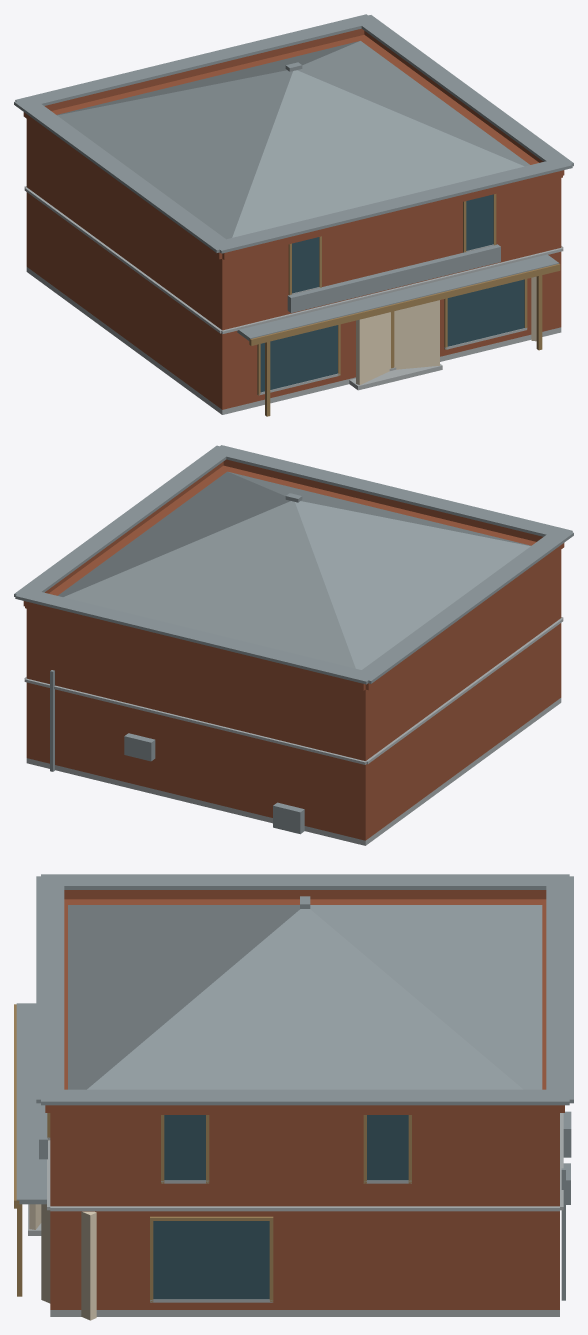
The model's file is shop-corner.glb.
3 views of the same model, one above another, from view 1: azimuth 30°, elevation 25°; view 2: azimuth 150°, elevation 25°; view 3: azimuth 270°, elevation 25° (orthographic). The views are drawn at different scales.
Visible parts, largest first — view 1: wall-envelope, roof-concealed-hip, shop-corner-coping-front, shop-corner-coping-rear, shop-corner-coping-east, shop-corner-coping-west, shop-sign-lit-box, awning-structure, opening-front-shop-right, opening-front-shop-left, splayed-entry-right-return, front-parapet (+12 smaller); view 2: wall-envelope, roof-concealed-hip, shop-corner-coping-rear, shop-corner-coping-front, shop-corner-coping-east, shop-corner-coping-west, ground-contact-plinth, rear-parapet, front-parapet, storey-line-01-rear, storey-line-01-west, west-parapet (+4 smaller); view 3: roof-concealed-hip, wall-envelope, opening-east-shop, shop-corner-coping-east, shop-corner-coping-west, shop-corner-coping-front, shop-corner-coping-rear, east-parapet, awning-structure, west-parapet, ground-contact-plinth, storey-line-01-east (+6 smaller).
Part boxes in pixels (box(x1,y1,x2,y2)): wall-envelope: box(26, 34, 561, 409); roof-concealed-hip: box(57, 41, 529, 239); shop-corner-coping-front: box(212, 159, 572, 253); shop-corner-coping-rear: box(15, 14, 376, 107); shop-corner-coping-east: box(353, 15, 573, 166); shop-corner-coping-west: box(14, 99, 234, 252); shop-sign-lit-box: box(287, 244, 500, 312); awning-structure: box(237, 254, 559, 341); opening-front-shop-right: box(447, 279, 524, 346); opening-front-shop-left: box(260, 325, 337, 392); splayed-entry-right-return: box(394, 300, 439, 369); front-parapet: box(222, 170, 562, 259); wall-envelope: box(26, 465, 561, 840); roof-concealed-hip: box(58, 471, 530, 669); shop-corner-coping-rear: box(15, 589, 376, 684); shop-corner-coping-front: box(211, 445, 572, 538); shop-corner-coping-east: box(14, 445, 234, 597); shop-corner-coping-west: box(357, 531, 573, 683); ground-contact-plinth: box(26, 698, 561, 845); rear-parapet: box(25, 601, 365, 690); front-parapet: box(223, 459, 542, 541); storey-line-01-rear: box(24, 678, 366, 764); storey-line-01-west: box(366, 618, 563, 764); west-parapet: box(365, 543, 564, 690); roof-concealed-hip: box(68, 905, 542, 1089); wall-envelope: box(50, 899, 559, 1309); opening-east-shop: box(153, 1221, 269, 1299); shop-corner-coping-east: box(41, 1089, 569, 1105); shop-corner-coping-west: box(41, 874, 569, 889); shop-corner-coping-front: box(36, 876, 64, 1103); shop-corner-coping-rear: box(546, 876, 573, 1103); east-parapet: box(50, 1105, 559, 1114); awning-structure: box(16, 1003, 46, 1204); west-parapet: box(64, 890, 546, 899); ground-contact-plinth: box(50, 1310, 559, 1316); storey-line-01-east: box(50, 1206, 559, 1211).
Bounding box in the file's own units: 14.34 × 9.09 × 14.94.
